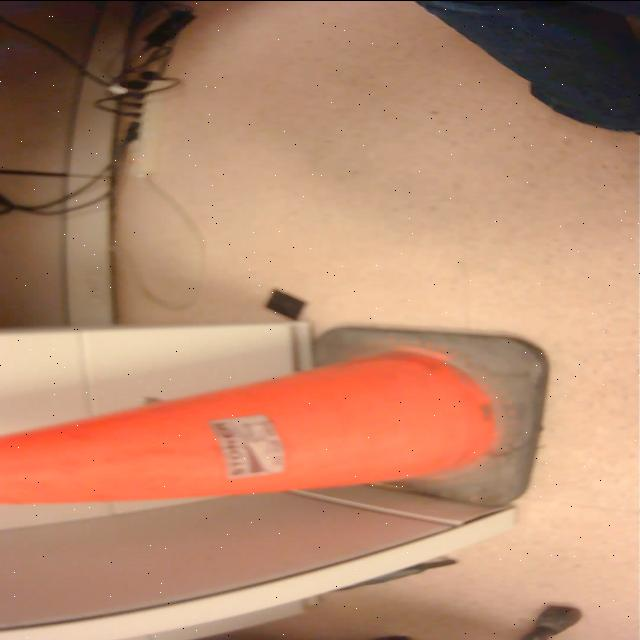traffic cone: (1, 321, 559, 517)
